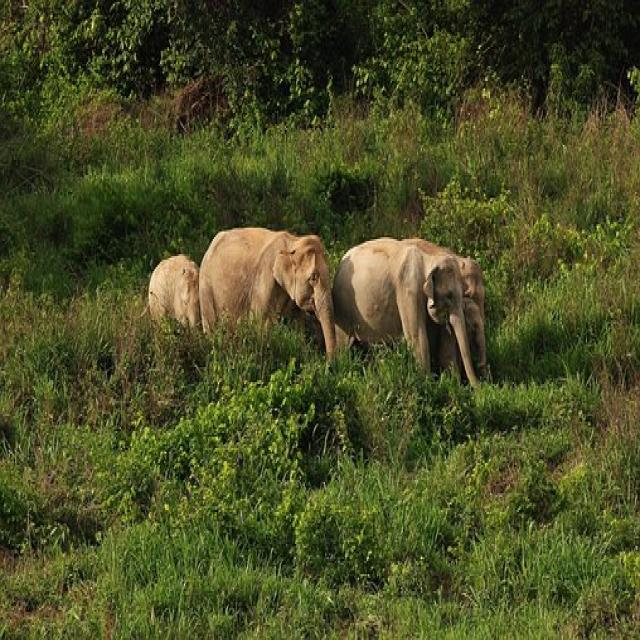Elephant: (344, 180, 495, 412), (184, 176, 339, 388), (139, 224, 204, 348)
